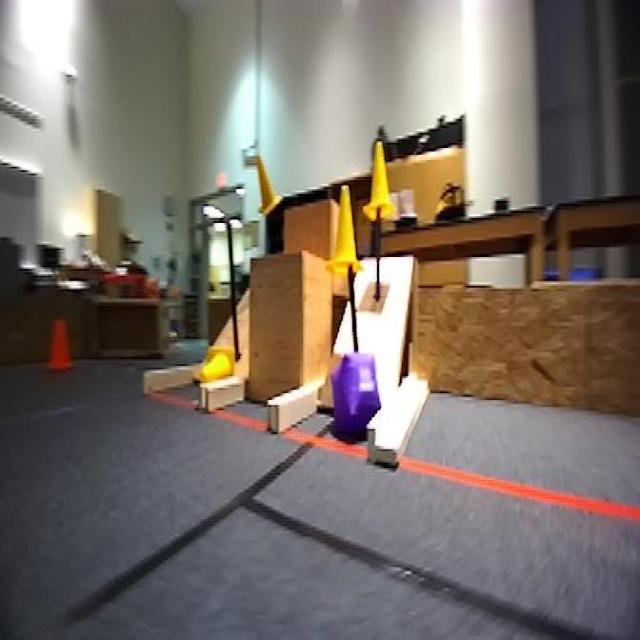frc_cone: (328, 180, 366, 270), (368, 145, 400, 221), (253, 153, 281, 218), (202, 349, 237, 378)
frc_cube: (329, 350, 381, 440)
